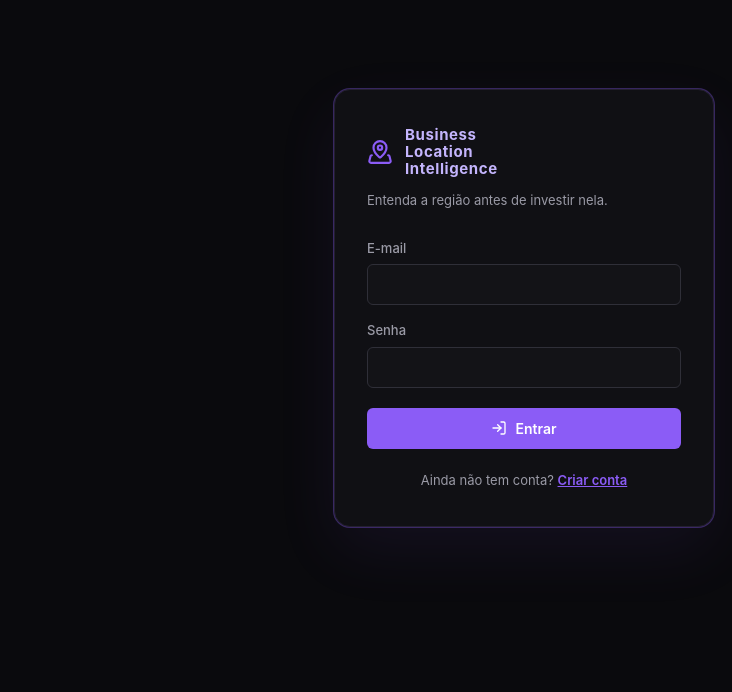
Test: routes › the login and register pages link to each other
Click the link "Criar conta".
click(592, 480)  # box 558,472 -> 627,488
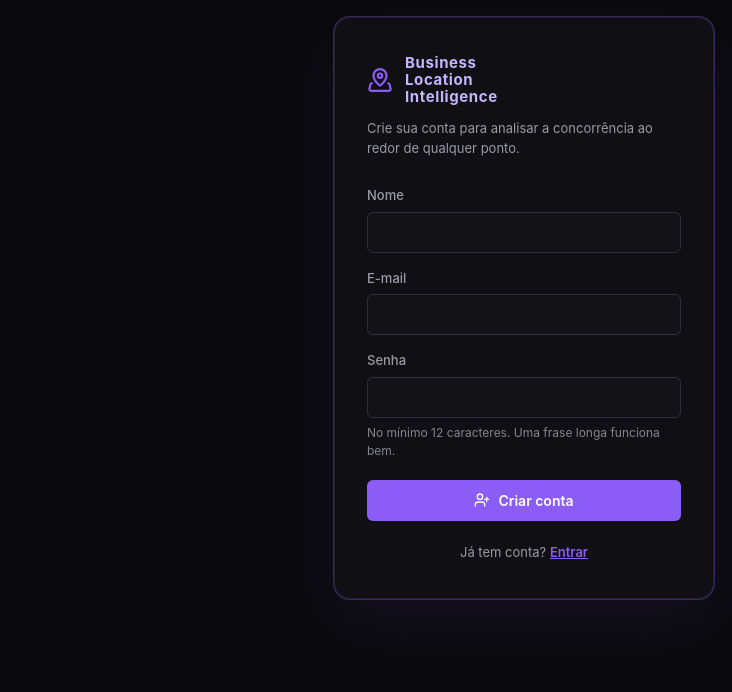
Check: the button "Criar conta" is shown, box 367,480 -> 681,521
Click the link "Entrar".
click(569, 552)  # box 550,544 -> 588,560
(page scrolled)
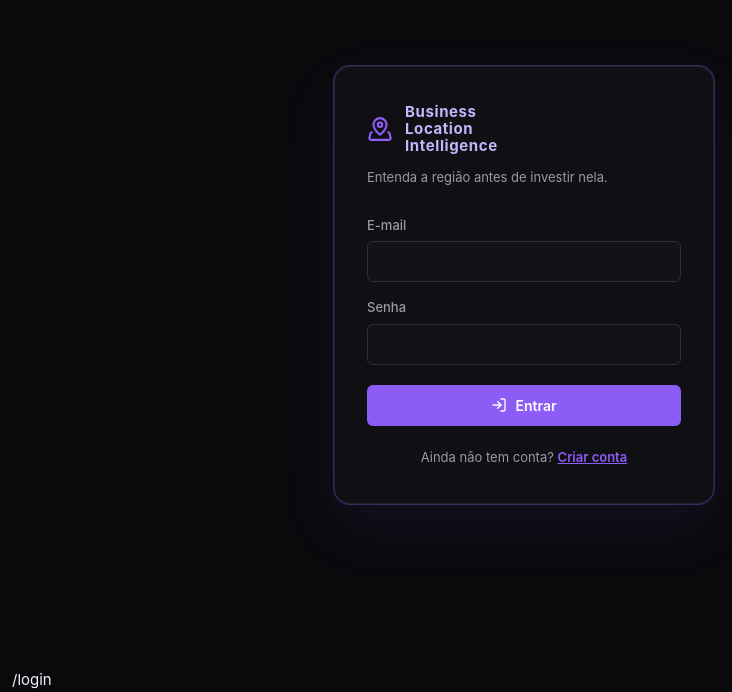
Check: the button "Entrar" is shown, box 367,385 -> 681,426
Check: the text with test id "path" reads "/login", box 12,670 -> 52,689
